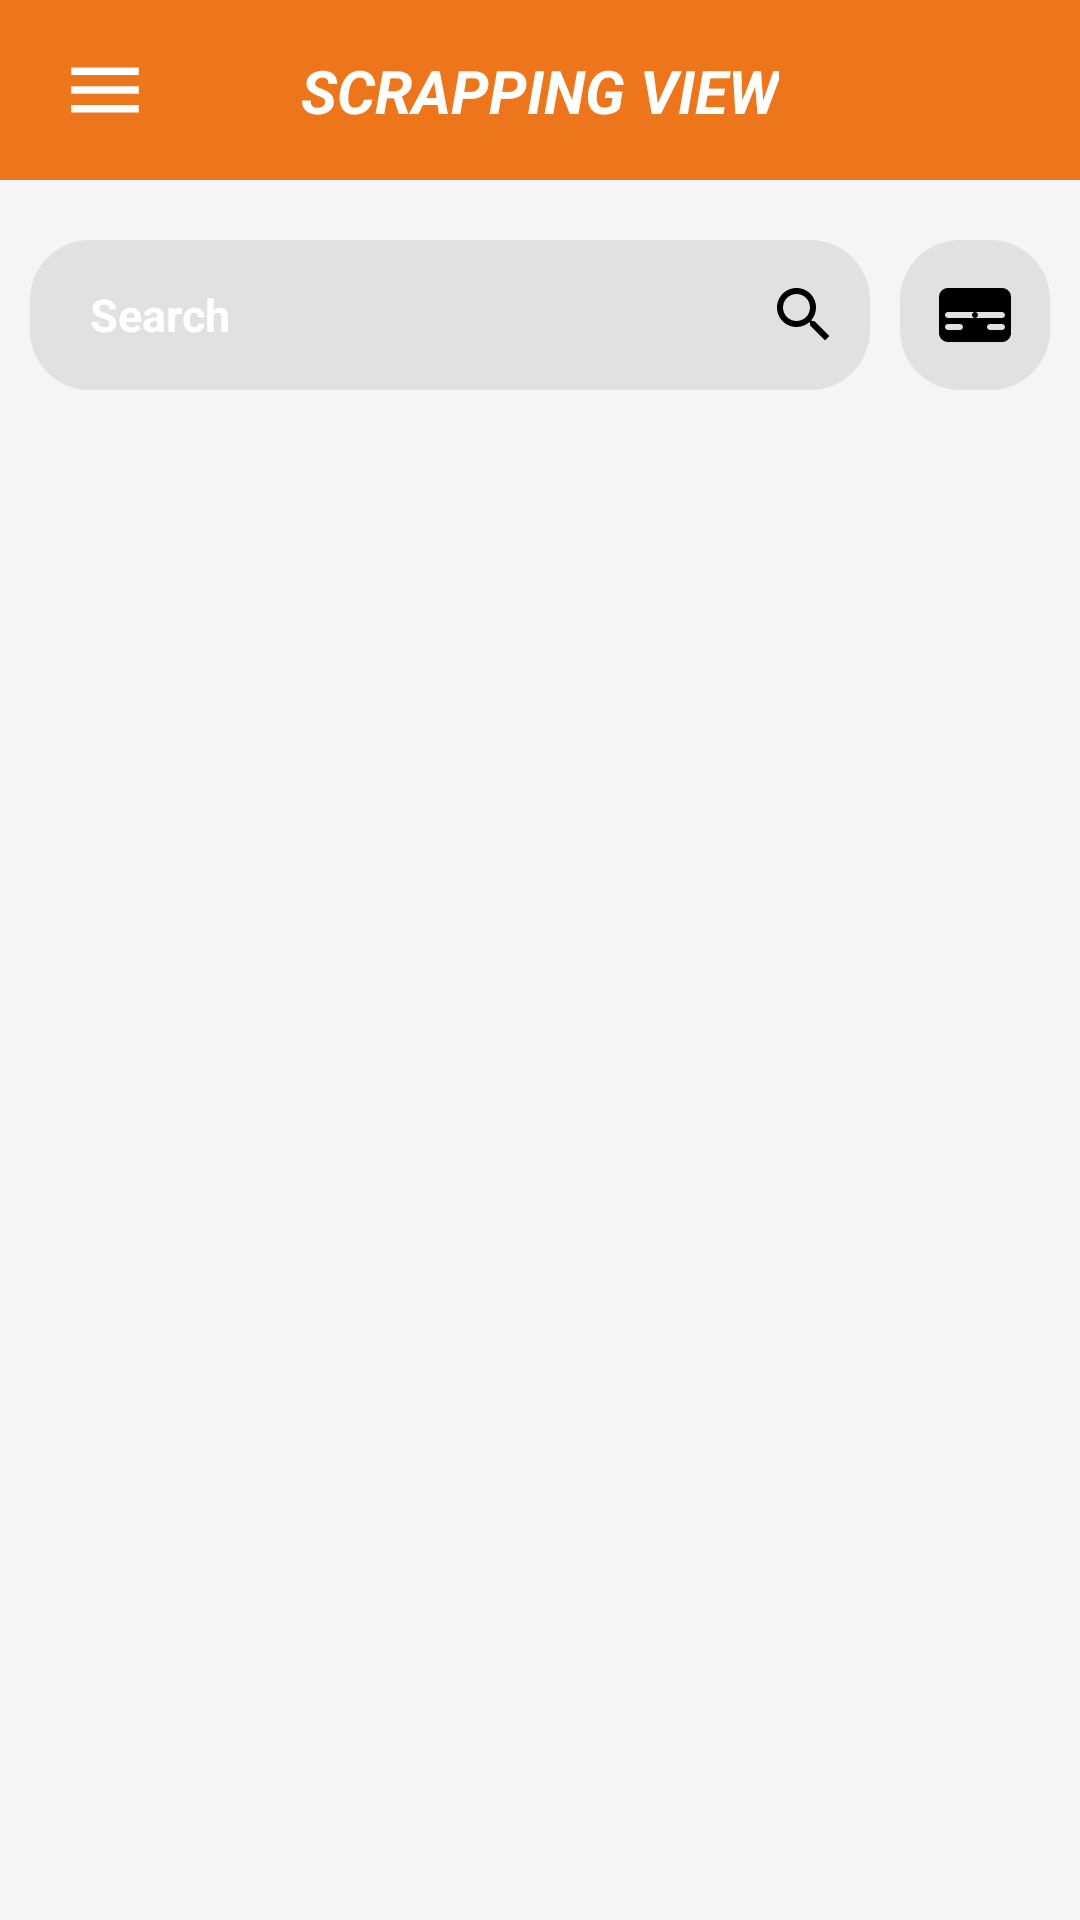

Named icons in this screenshot (1080 × 1920) and their bounding boxes, [x1, y1, x2, y2]:
filter: [939, 288, 1011, 342]
hamburger: [71, 67, 139, 113]
